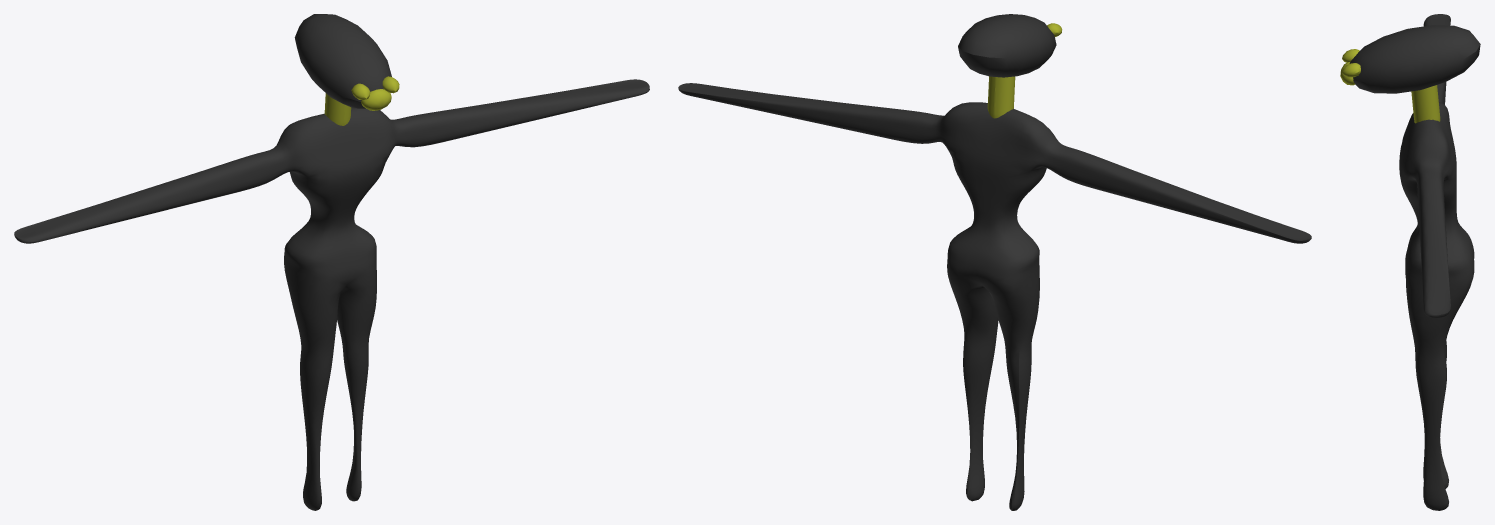
The model's file is draft.fbx.
3 views of the same model, side by side, from view 1: azimuth 30°, elevation 25°; view 2: azimuth 150°, elevation 25°; view 3: azimuth 270°, elevation 25° (orthographic). The views are drawn at different scales.
Parts seen in each view (by area): view 1: Cube; view 2: Cube, Cylinder; view 3: Cube, Cylinder, Pyramid_2.
Part boxes in pixels (x1,y1,x2,y2): Cube: (14, 14, 649, 510); Cube: (678, 14, 1311, 510); Cylinder: (987, 76, 1015, 118); Cube: (1349, 14, 1480, 510); Cylinder: (1411, 85, 1440, 123); Pyramid_2: (1342, 49, 1360, 77).
Bounding box in the file's own units: 913 × 667 × 180.
